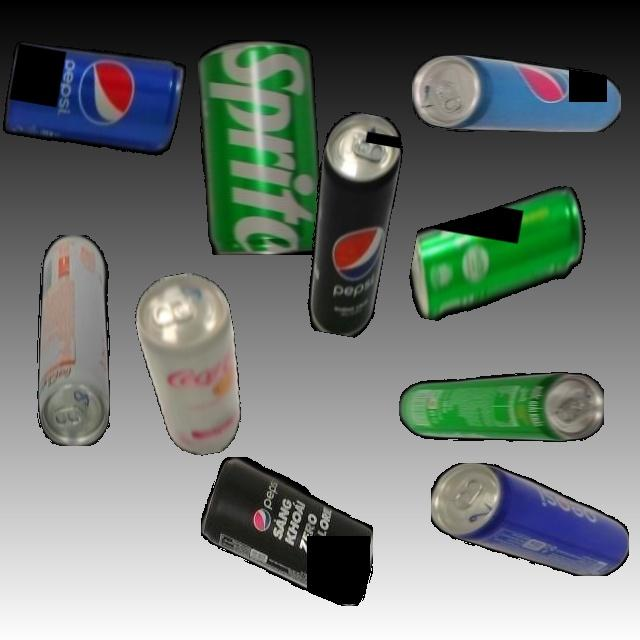debris: (403, 163, 593, 343), (198, 39, 324, 255), (293, 108, 408, 340), (200, 456, 373, 606), (129, 267, 254, 462), (0, 34, 187, 162), (431, 462, 629, 576), (412, 54, 621, 132), (36, 234, 110, 446), (398, 372, 604, 442)
